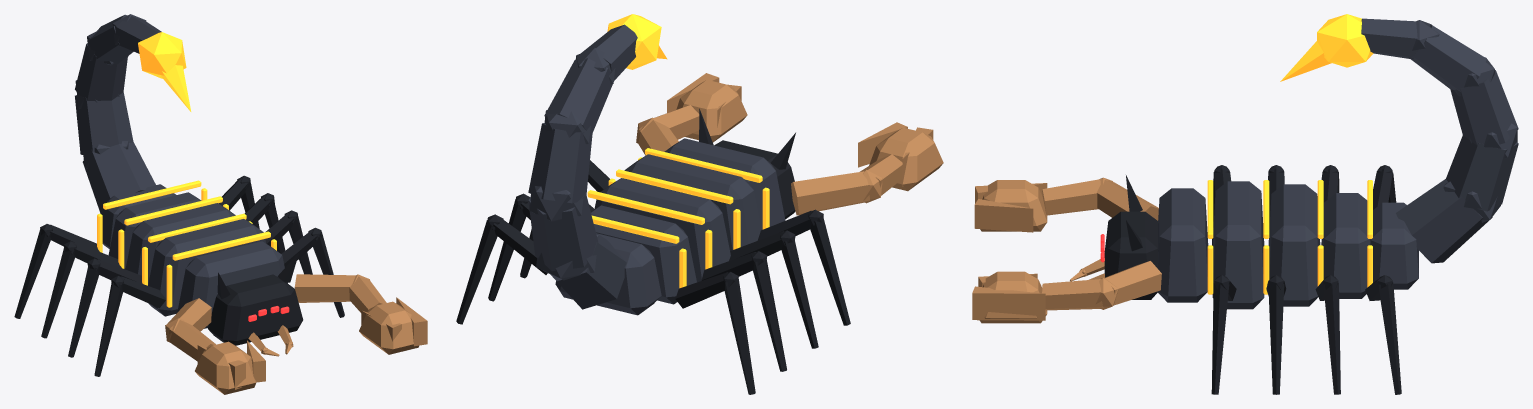
Rendered from ScorpionQueen.fbx.
3 views of the same model, side by side, from view 1: azimuth 30°, elevation 25°; view 2: azimuth 150°, elevation 25°; view 3: azimuth 270°, elevation 25° (orthographic). The views are drawn at different scales.
Parts seen in each view (by area): view 1: Body, Tail, LegsL, ClawR, Head, ClawL, Seams, LegsR, Stinger, Mandibles; view 2: Body, Tail, LegsL, ClawL, ClawR, Seams, LegsR, Head, Stinger; view 3: Body, Tail, ClawR, ClawL, LegsR, Head, Stinger, Seams, LegsL.
Boxes of the visible parts, x1,y1,x2,y2 form: Body: (102, 184, 287, 328); Tail: (75, 14, 161, 214); LegsL: (14, 224, 165, 376); ClawR: (294, 274, 427, 354); Head: (207, 253, 303, 345); ClawL: (165, 298, 265, 394); Seams: (97, 180, 276, 307); LegsR: (218, 175, 344, 317); Stinger: (138, 32, 191, 111); Mandibles: (248, 325, 293, 356); Body: (555, 138, 785, 315); Tail: (528, 24, 637, 309); LegsL: (675, 209, 850, 394); ClawL: (791, 122, 943, 215); ClawR: (636, 73, 747, 155); Seams: (587, 148, 769, 288); LegsR: (456, 160, 609, 324); Head: (699, 108, 795, 219); Stinger: (607, 14, 667, 69); Body: (1157, 181, 1418, 309); Tail: (1361, 18, 1518, 263); ClawR: (972, 261, 1161, 323); ClawL: (974, 177, 1158, 232); LegsR: (1211, 275, 1401, 394); Head: (1104, 175, 1158, 299); Stinger: (1280, 14, 1373, 81); Seams: (1207, 180, 1372, 294); LegsL: (1212, 165, 1396, 245).
Bounding box in the file's own units: 10.05 × 10.48 × 16.6.
